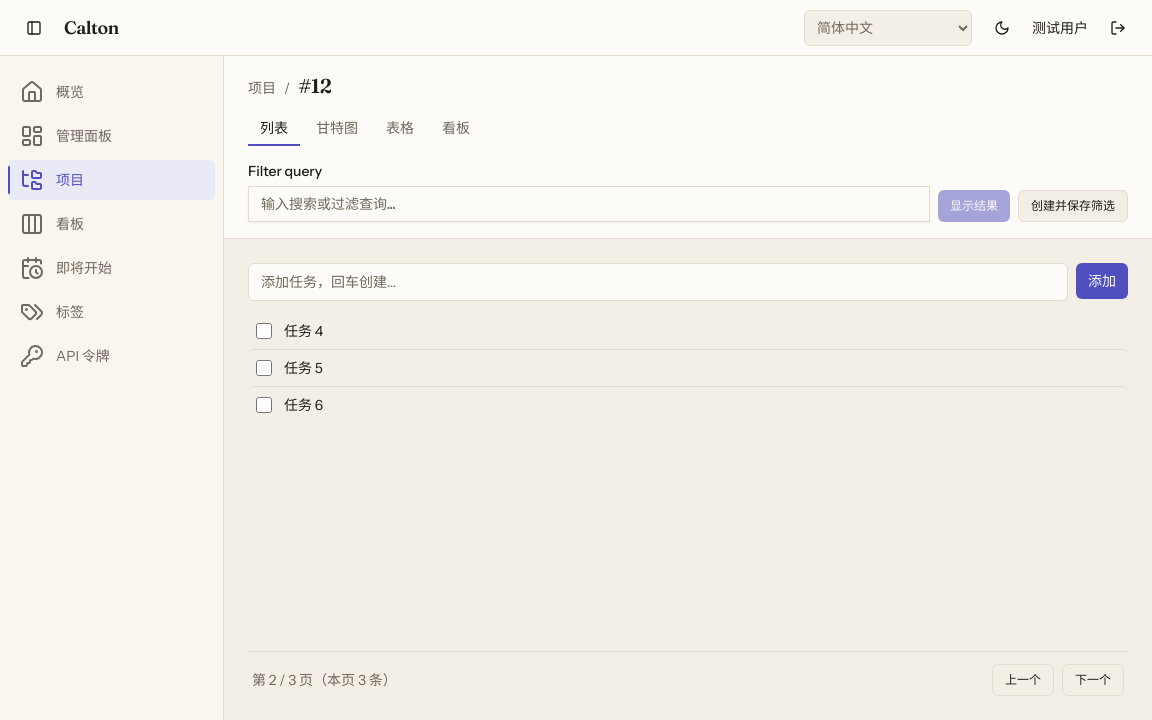
Test: List 视图：分页 › 回到第 1 页时把 page 从 URL 里摘掉（链接保持干净）
The image size is (1152, 720).
Expected: the link "任务 4" is shown, x1=284 y1=322 x2=323 y2=340
Click the button with test id "pagination-prev" at (1023, 680), box x1=992 y1=664 x2=1054 y2=696
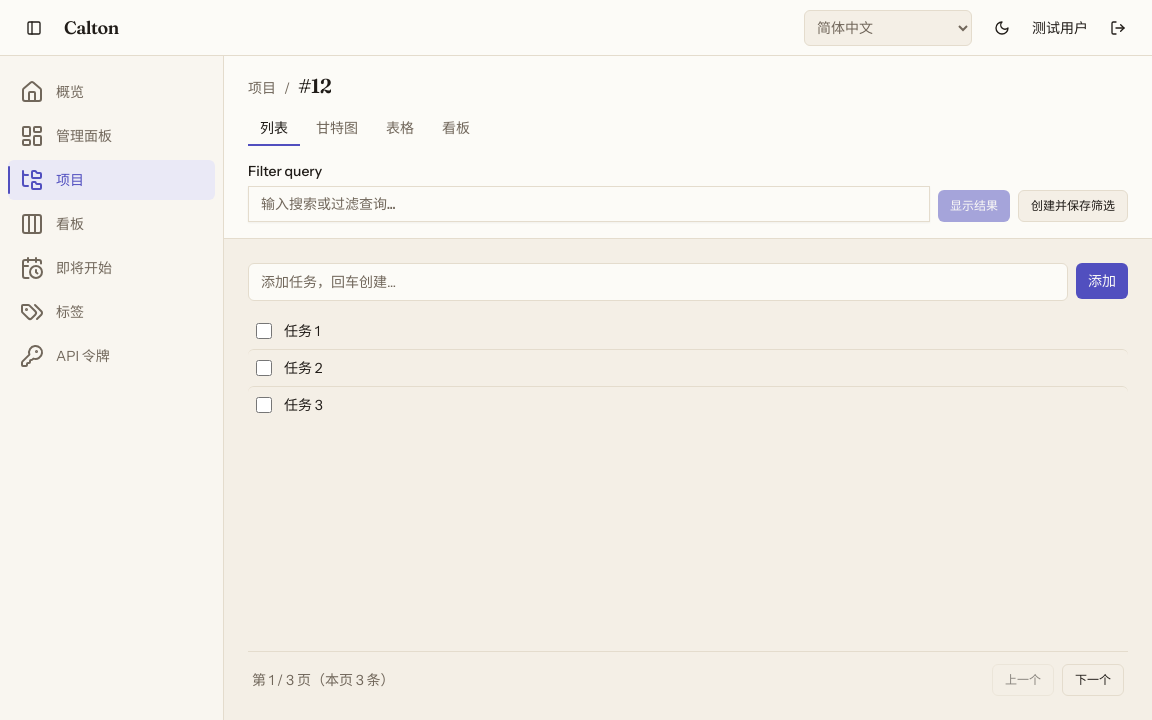
Now the link "任务 1" is shown, box x1=284 y1=322 x2=320 y2=340
